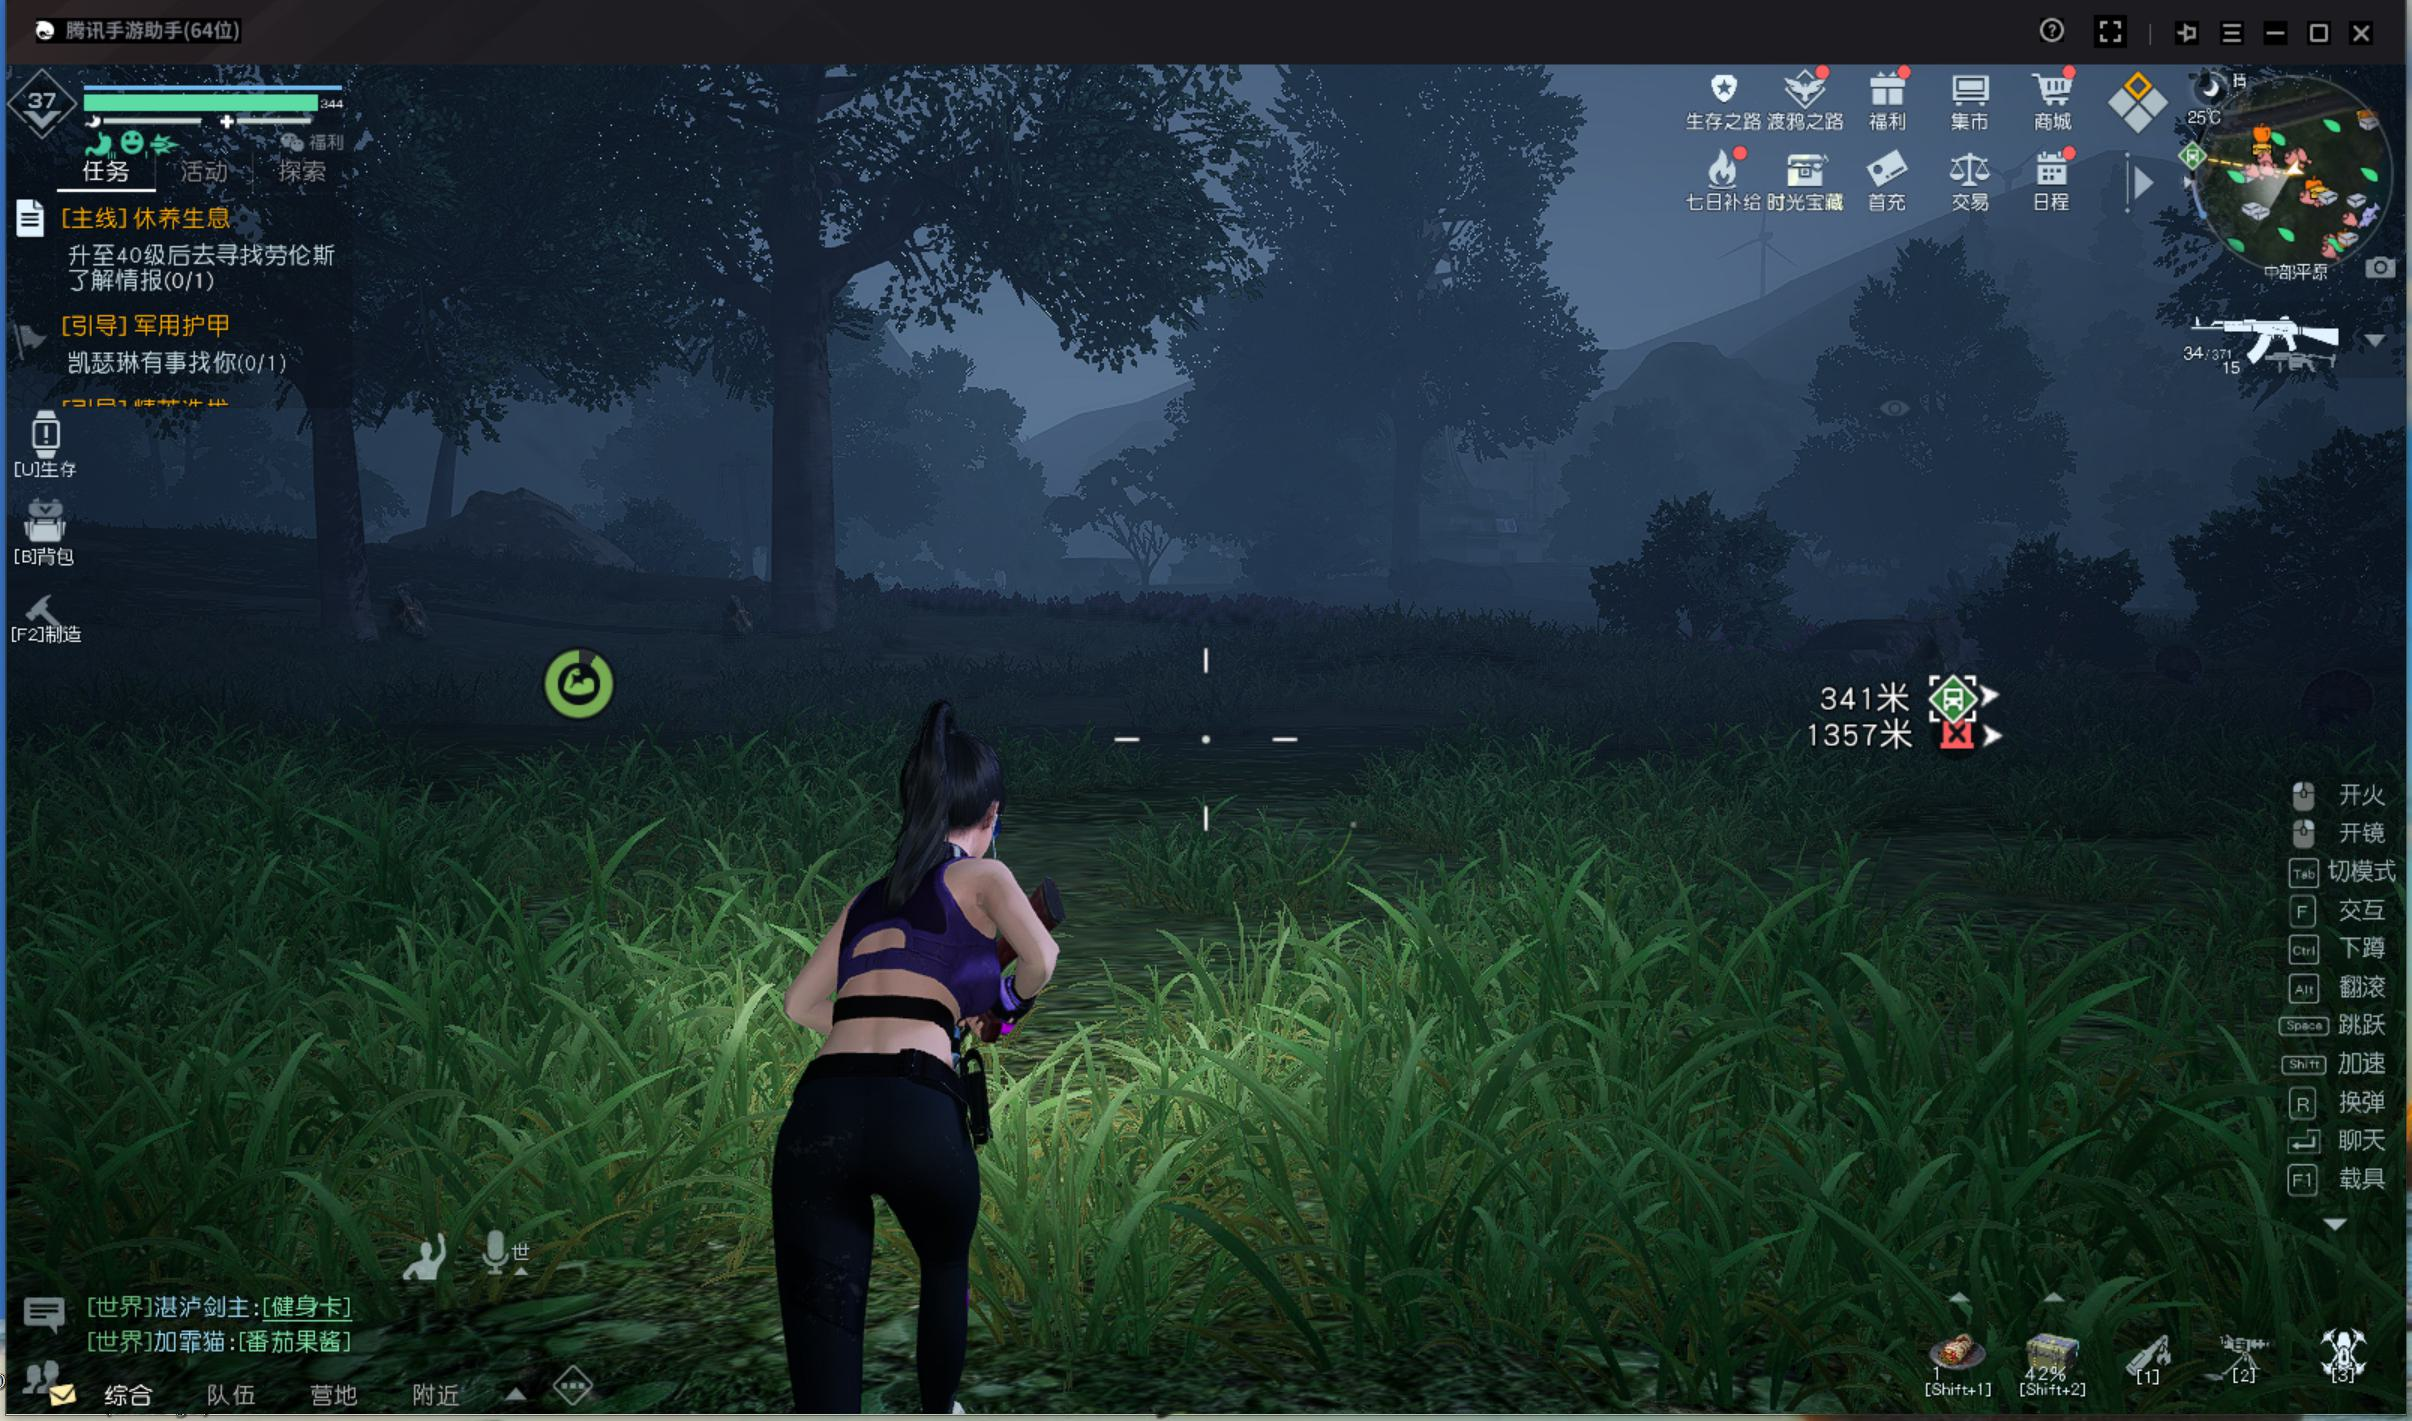stone: (704, 580, 759, 650), (379, 585, 428, 639)
tree: (758, 359, 852, 660), (296, 418, 374, 643), (1384, 430, 1433, 651)
